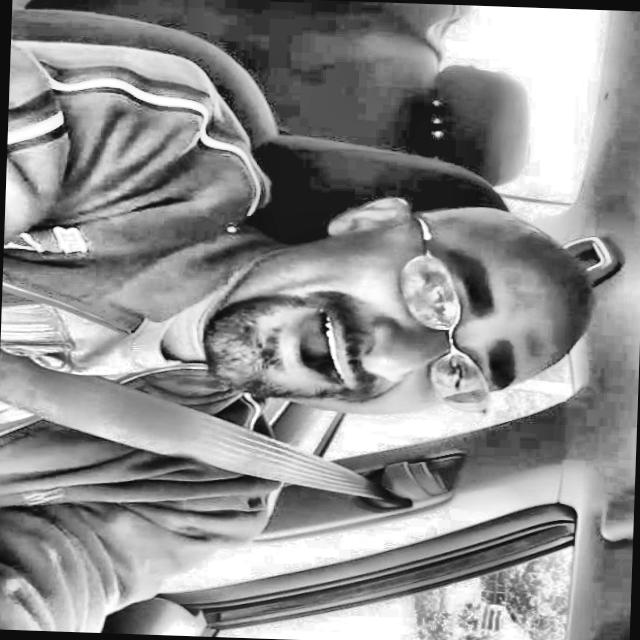open_mouth: (264, 301, 366, 409)
